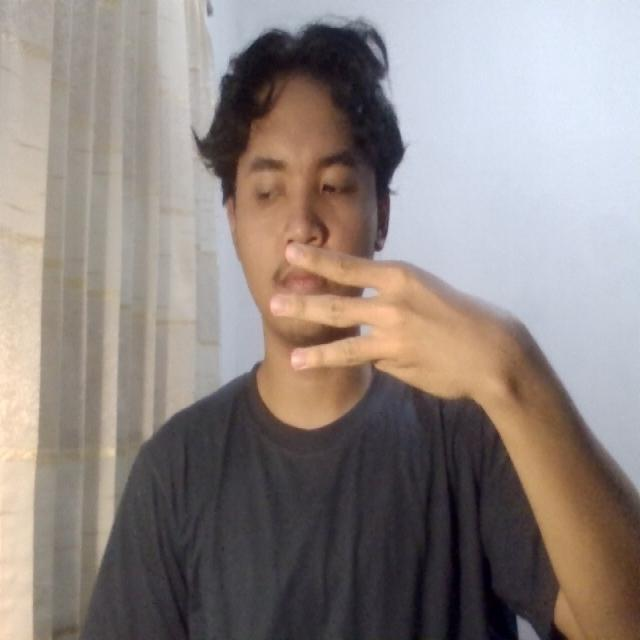E: (248, 227, 484, 430)
